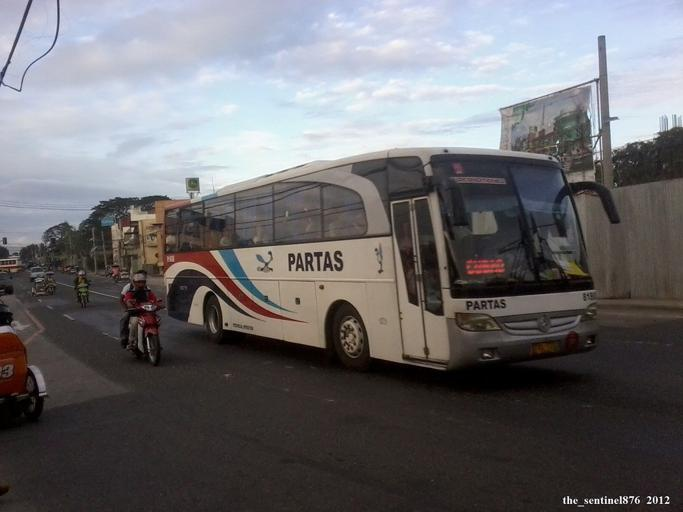non-vehicle: (120, 298, 165, 364), (73, 279, 92, 311), (46, 279, 56, 295)
